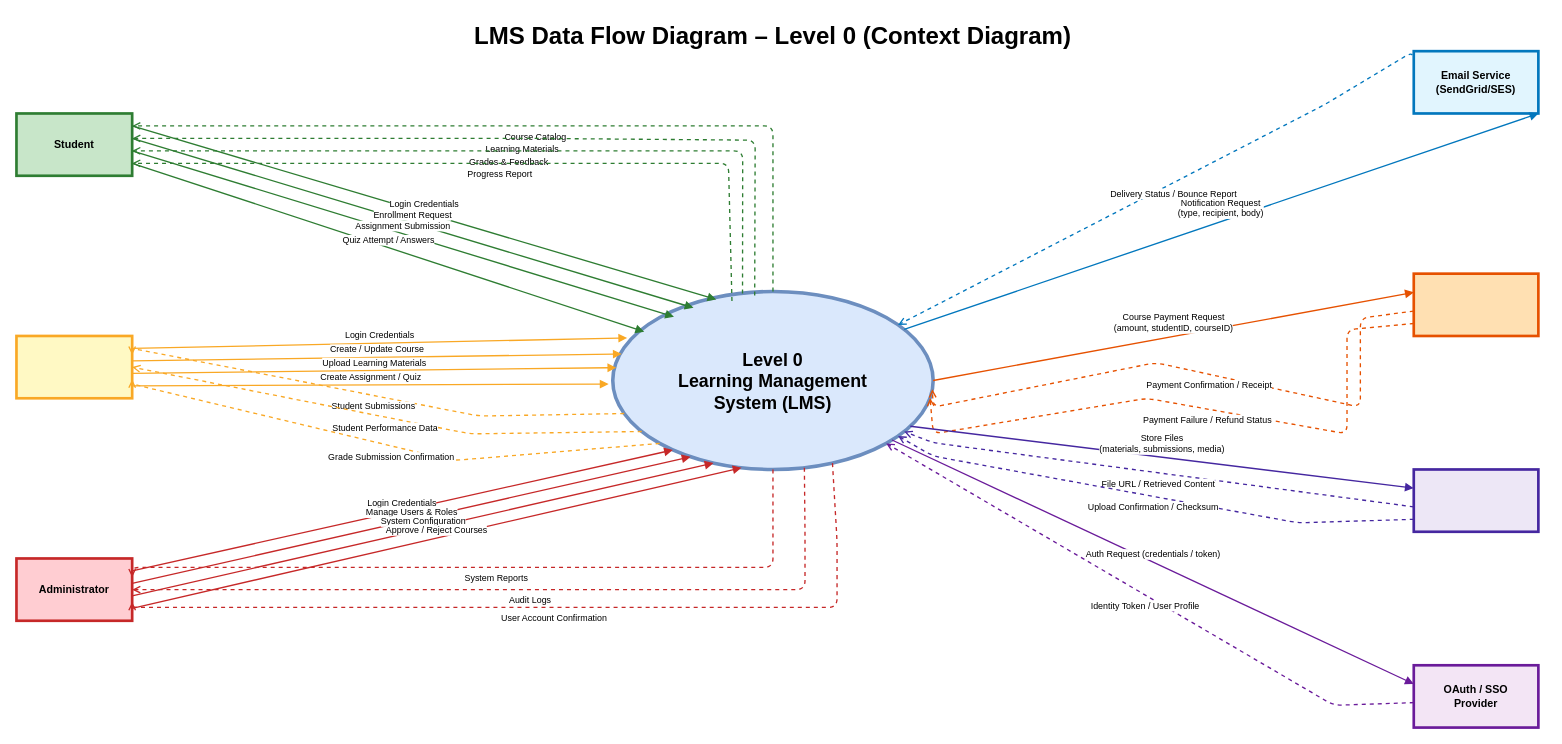
Some shapes in this 1562 by 744 pixel diagram are drawn without their labels. Each missing label, with the centre of its shape:
"Cloud Storage (AWS S3/GCS)" goes at [1475,500].
"Lecturer / Instructor" goes at [74,366].
"Payment Service (Stripe/PayPal)" goes at [1475,304].
